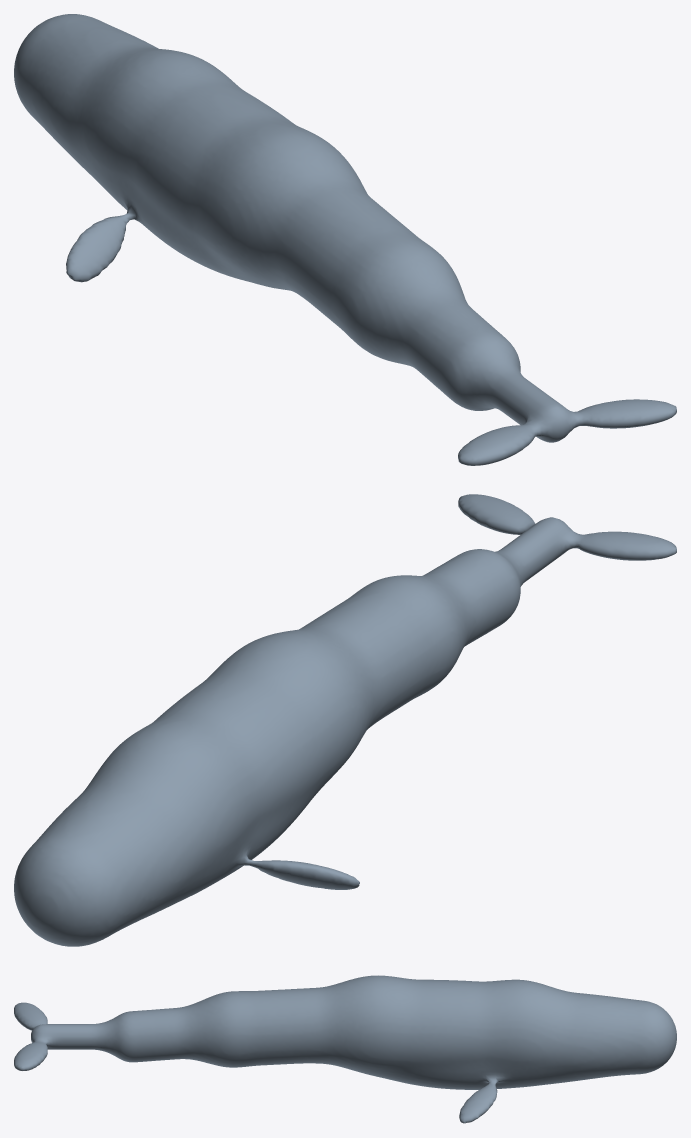
File: whale.glb
The picture shows the model from 3 angles, top to bottom: view 1: azimuth 30°, elevation 25°; view 2: azimuth 150°, elevation 25°; view 3: azimuth 270°, elevation 25°; orthographic projection. The views are drawn at different scales.
Parts seen in each view (by area): view 1: Whale; view 2: Whale; view 3: Whale.
Boxes of the visible parts, bbox=[...] form: Whale: bbox=[14, 14, 676, 465]; Whale: bbox=[14, 494, 676, 946]; Whale: bbox=[14, 975, 676, 1123].
Bounding box in the file's own units: 5.19 × 2.85 × 16.31.
